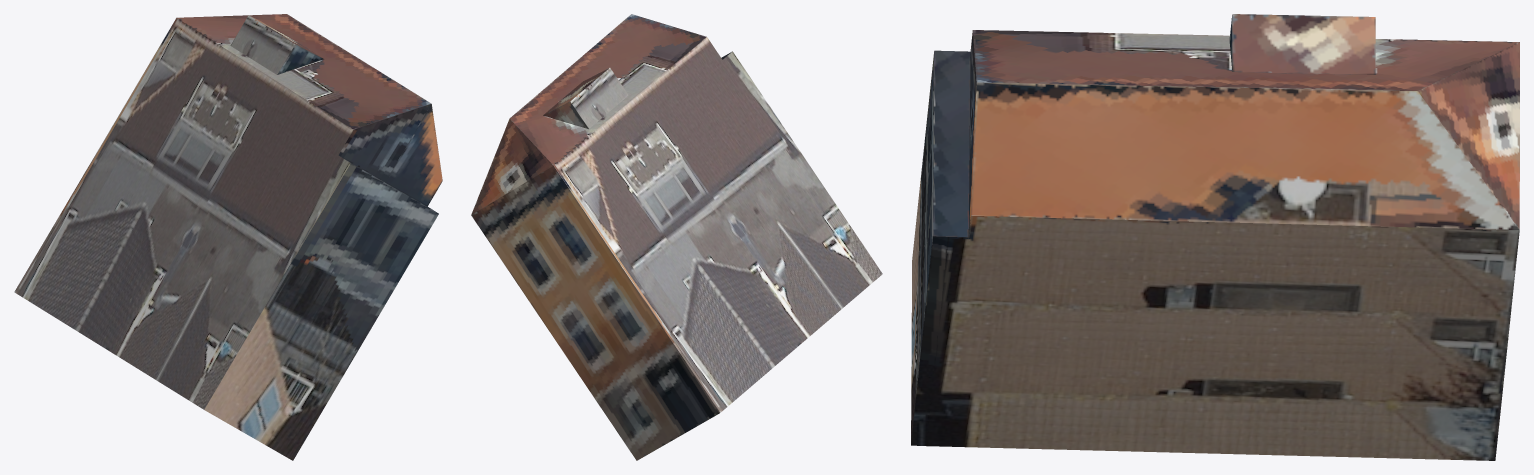
3 views of the same model, side by side, from view 1: azimuth 30°, elevation 25°; view 2: azimuth 150°, elevation 25°; view 3: azimuth 270°, elevation 25° (orthographic). The views are drawn at different scales.
Parts seen in each view (by area): view 1: BAG_0599100000688759 (×4); view 2: BAG_0599100000688759 (×4); view 3: BAG_0599100000688759 (×4).
Boxes of the visible parts, x1,y1,x2,y2 form: BAG_0599100000688759 (×4): (14, 14, 442, 460); BAG_0599100000688759 (×4): (471, 14, 882, 460); BAG_0599100000688759 (×4): (911, 14, 1519, 460).
Size of the model in its own units: 10.63 by 12.71 by 13.15.
Materials: 5 (5 with a texture image).
